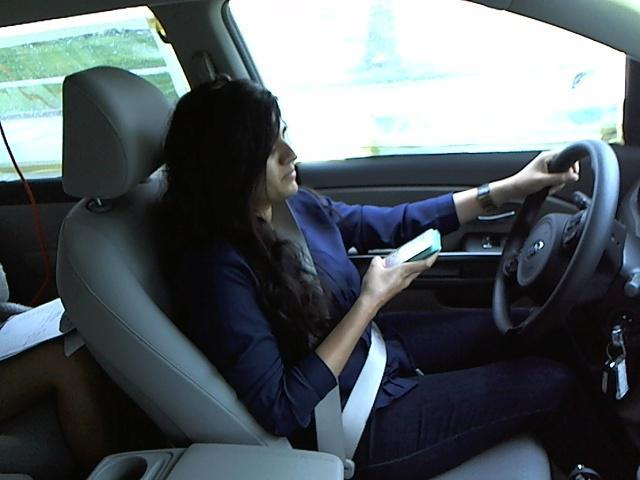PhoneUse: (366, 223, 443, 278)
